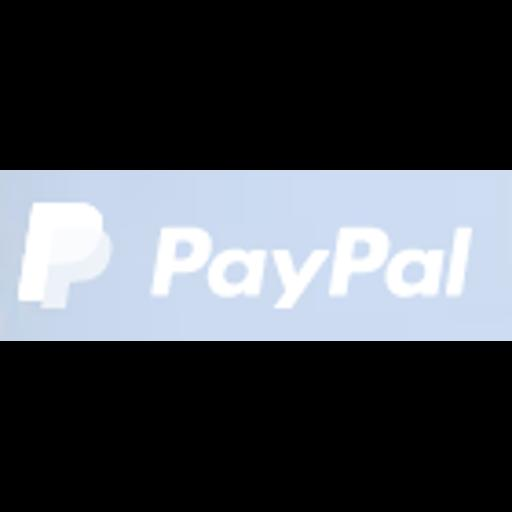PayPal: (0, 170, 512, 341)
